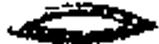Mouth: (5, 3, 157, 42)
